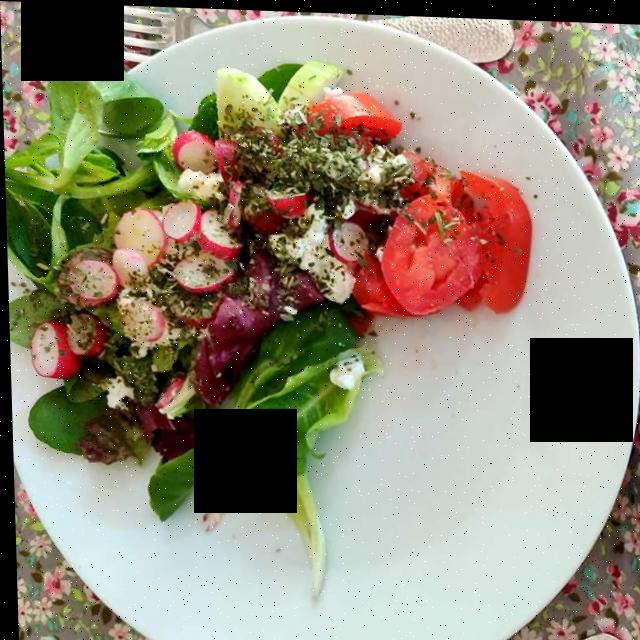cucumber: (209, 63, 343, 152)
red-radish: (19, 138, 295, 375)
salad-lambs-ear: (8, 54, 360, 613)
tomato-raw: (307, 85, 524, 315)
